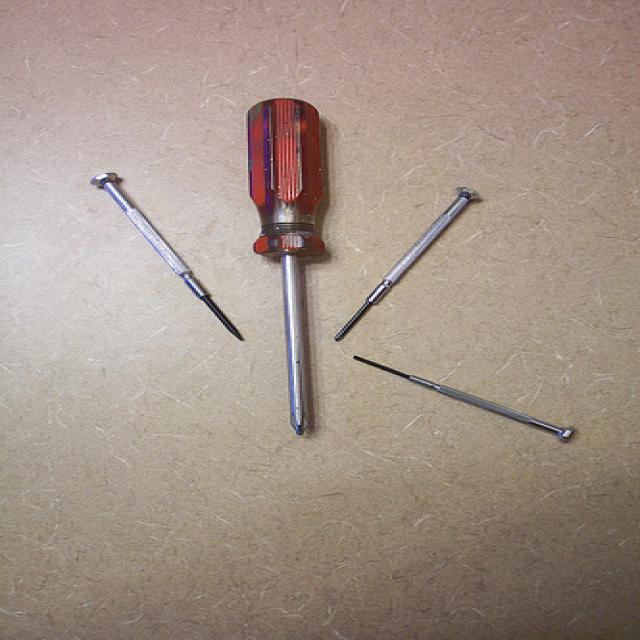screw_driver: (245, 94, 332, 443)
